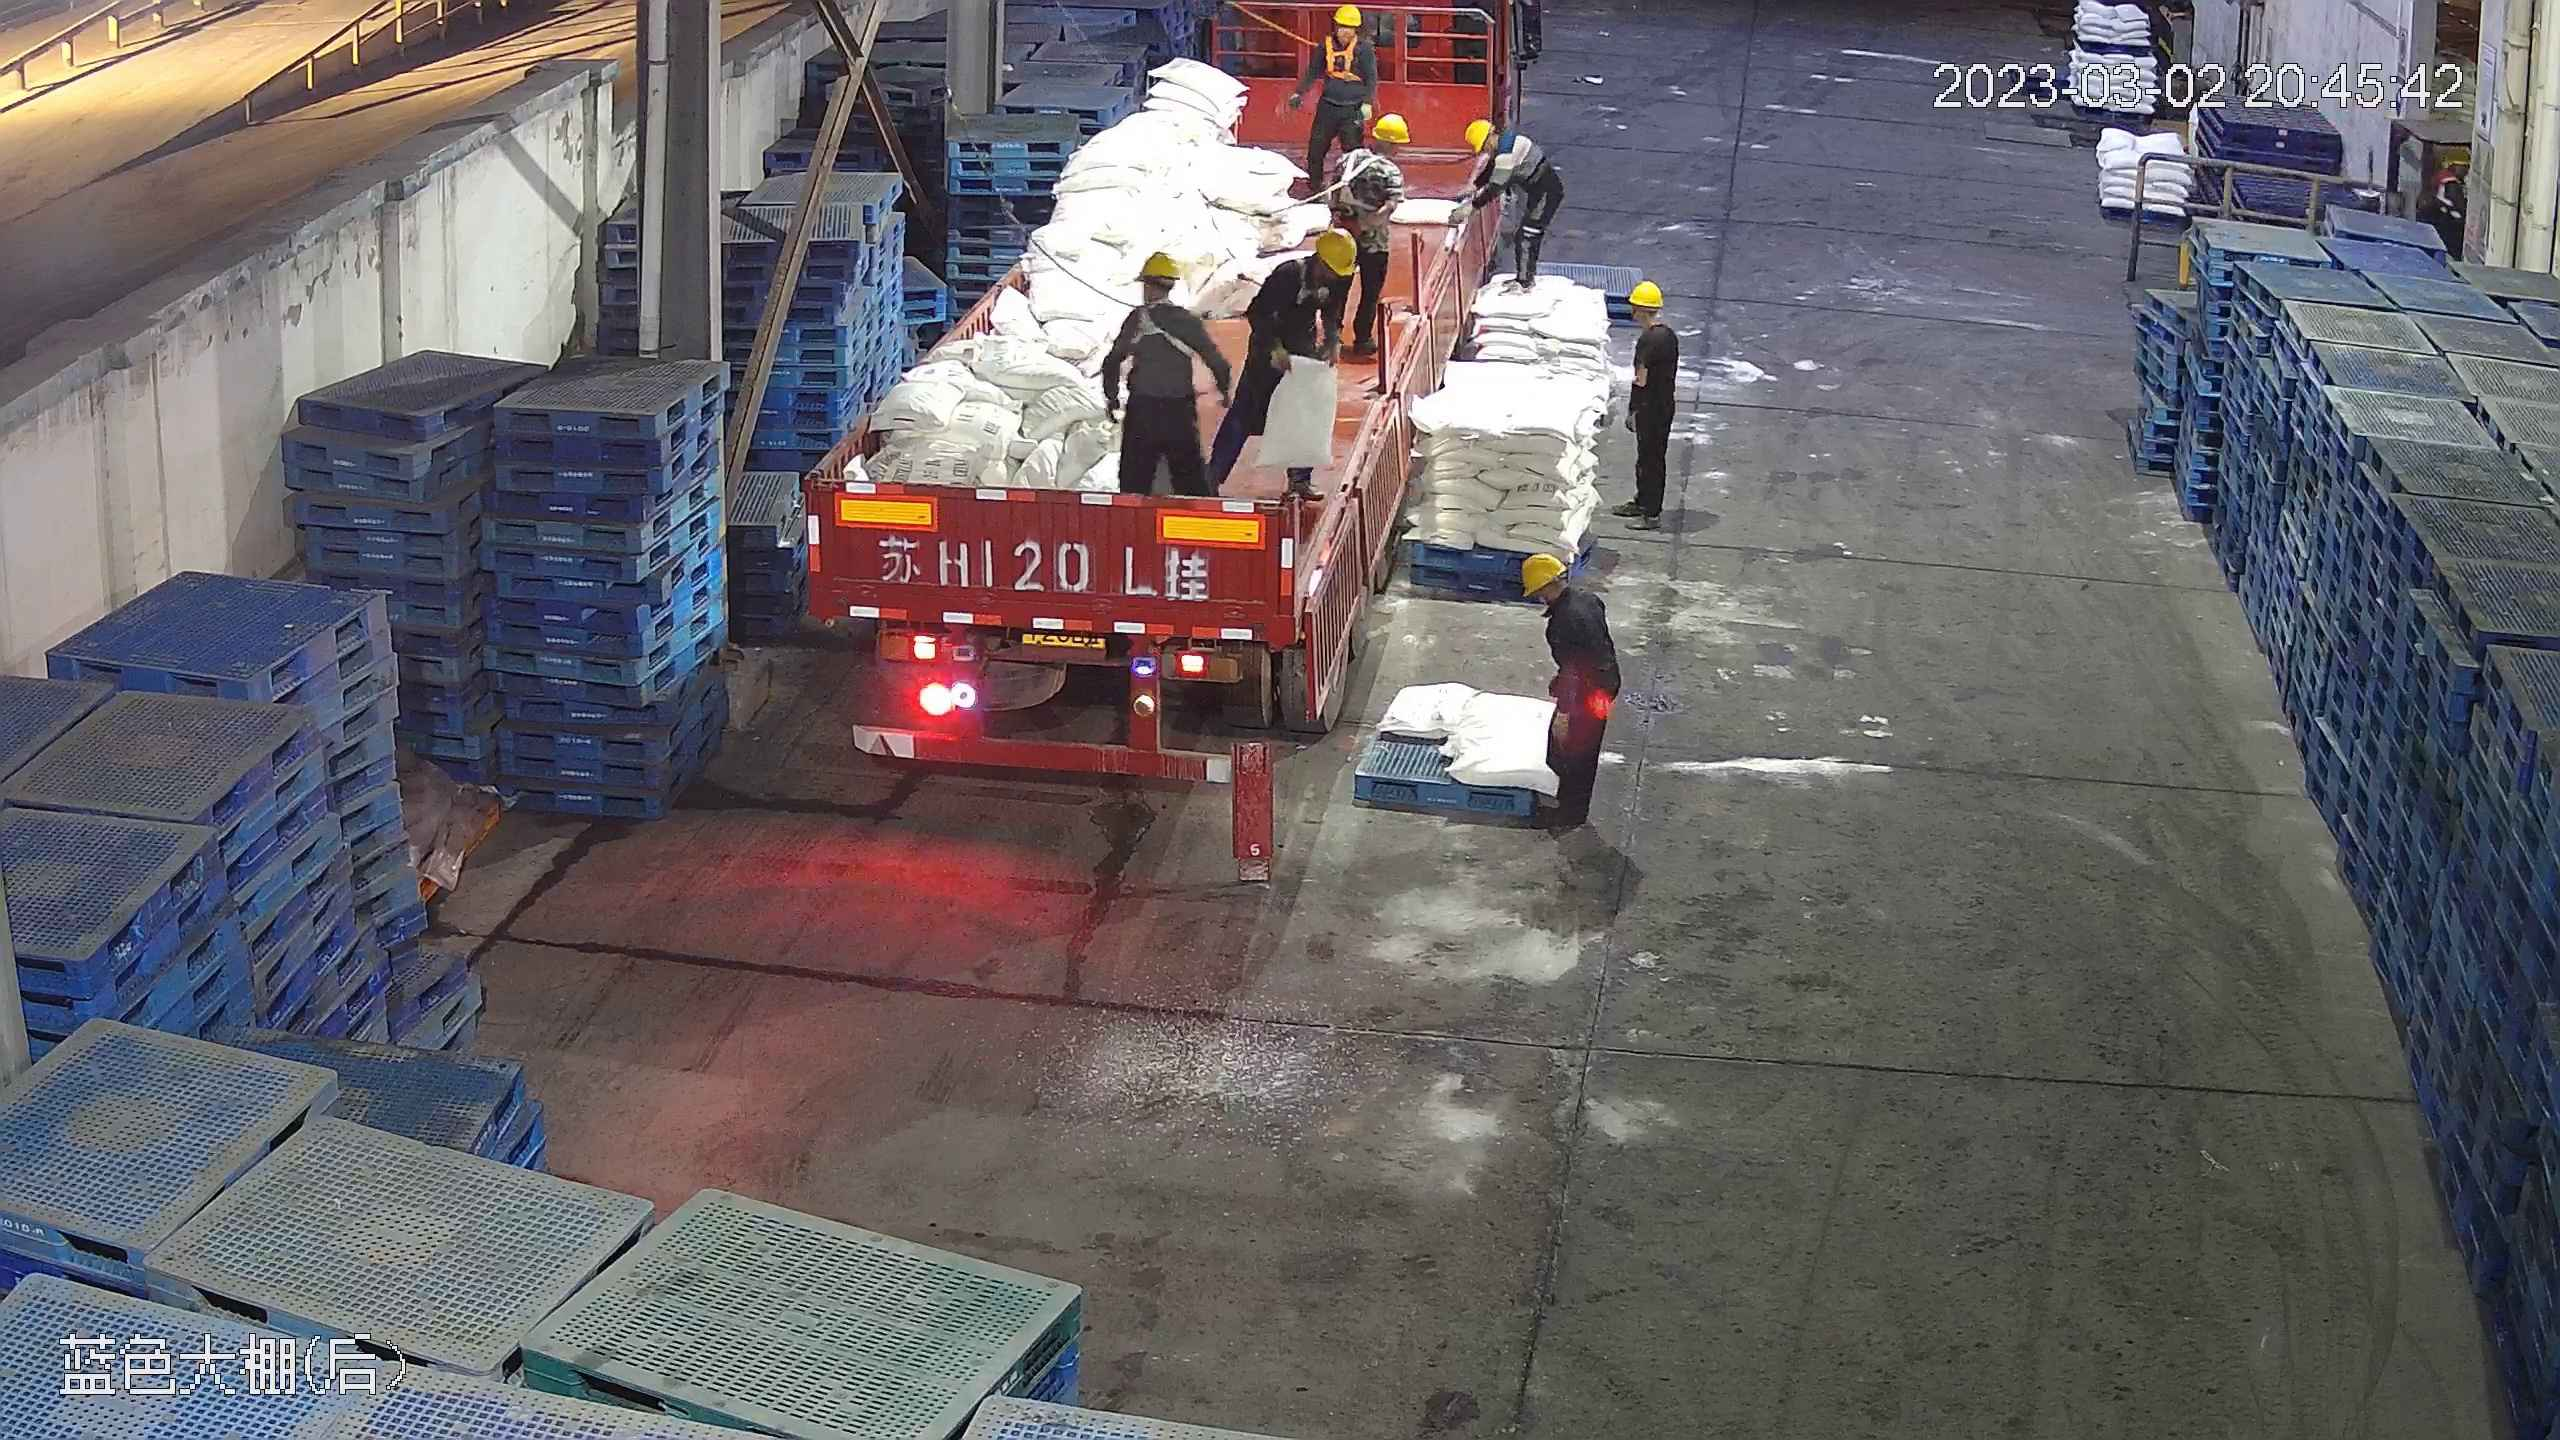belt: (1332, 148, 1392, 215), (1317, 36, 1366, 86), (1291, 255, 1334, 308)
head: (1114, 249, 1210, 348), (1262, 228, 1362, 317), (1521, 552, 1610, 645), (1332, 107, 1415, 201), (1462, 118, 1539, 180), (1313, 5, 1377, 75), (1624, 281, 1680, 358)
helmet: (1313, 229, 1361, 274), (1519, 551, 1567, 595), (1134, 249, 1183, 282), (1373, 109, 1413, 146), (1463, 117, 1495, 150), (1626, 279, 1664, 306), (1333, 2, 1364, 25)
people: (1221, 227, 1361, 486), (1100, 249, 1228, 503), (1522, 547, 1623, 836), (1328, 108, 1416, 368), (1453, 112, 1565, 307), (1613, 279, 1684, 532), (1296, 5, 1386, 202)
truck: (800, 5, 1488, 767)
